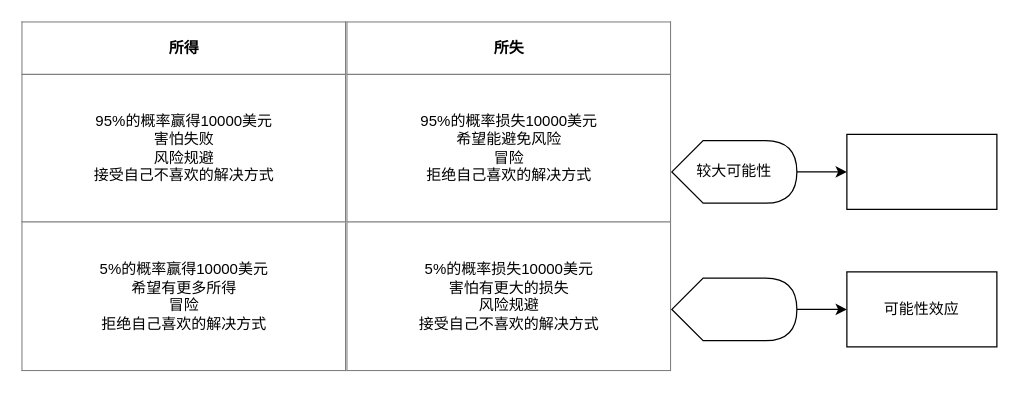
Image size: 1019x393. Some labels were removed from this diagram. The shapes that lost their labels are listed below. From the top down, each one's centre as x and y in pixels, then its label:
pixel 921 171: 确定性效应
pixel 734 309: 较小可能性
